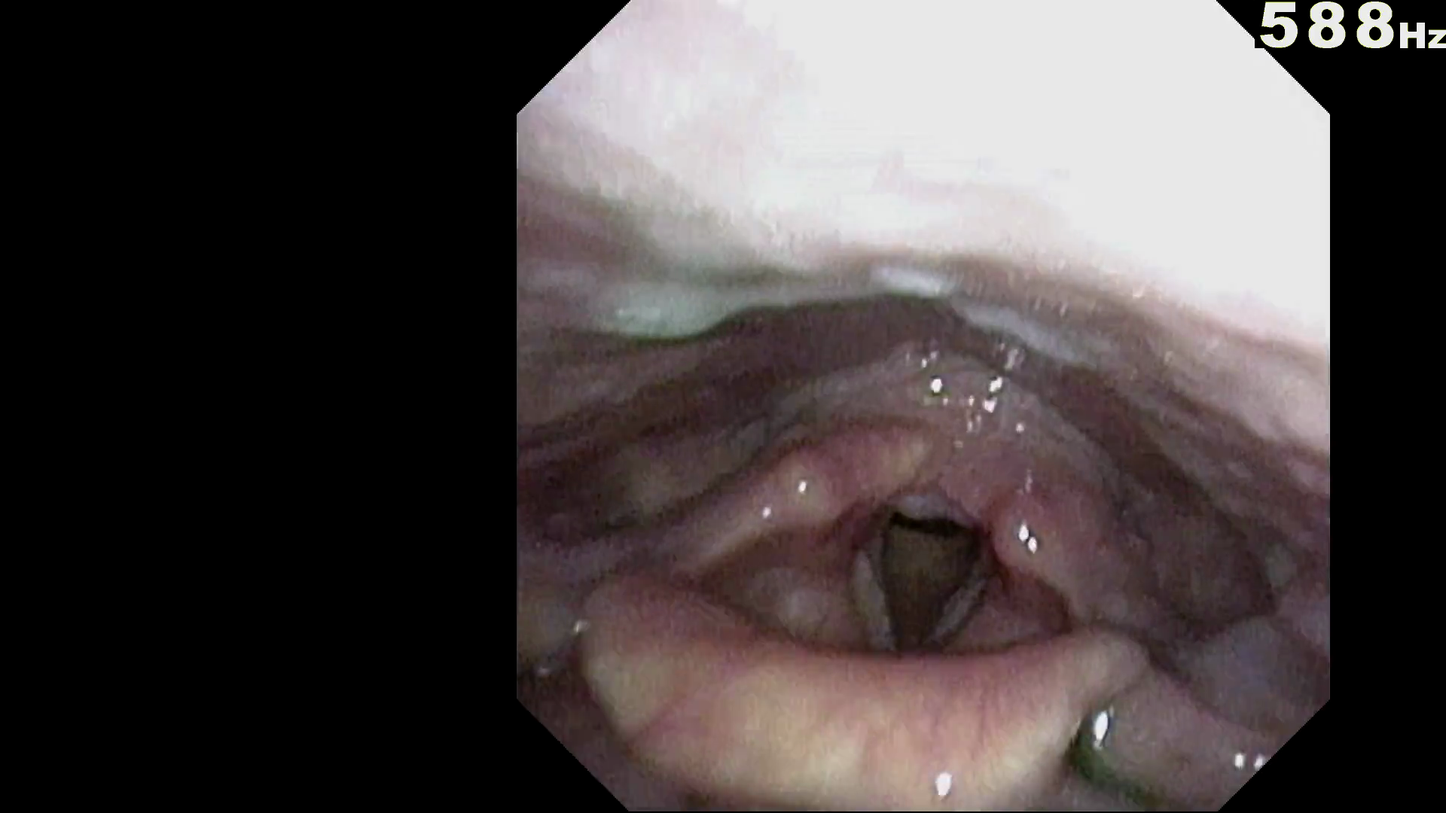trachea: (868, 500, 992, 653)
